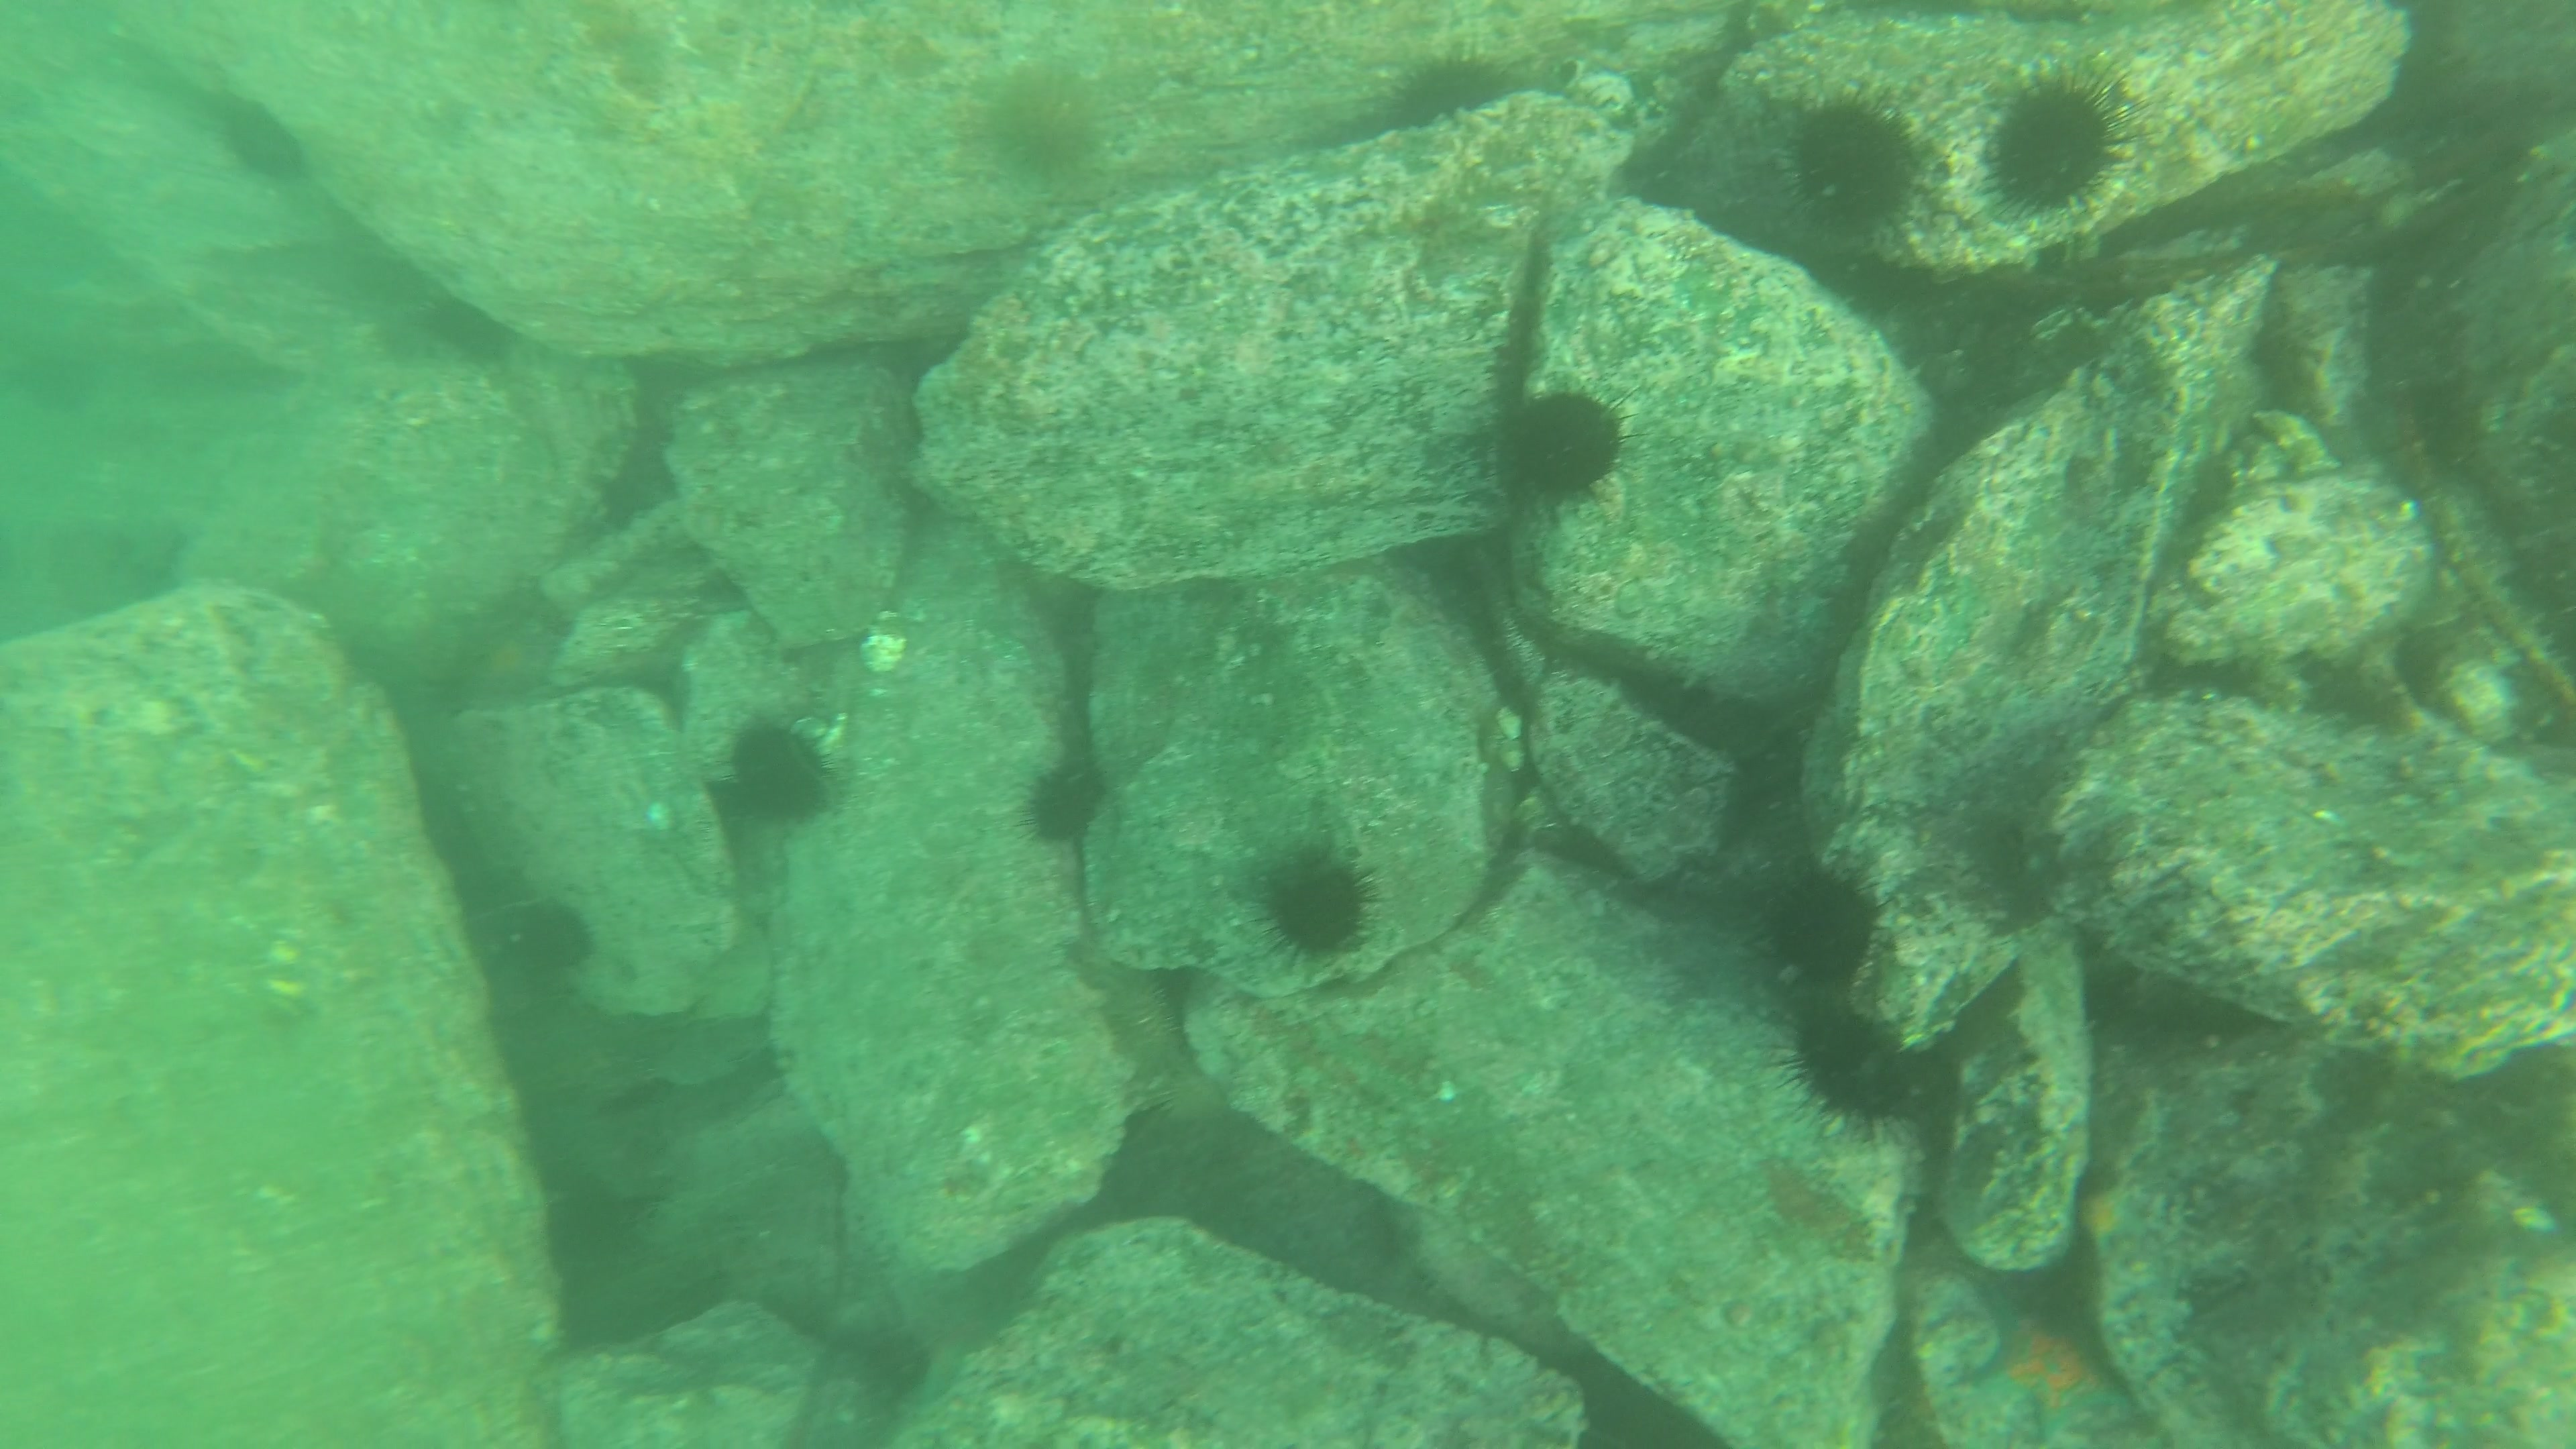echinus: (1973, 64, 2141, 230), (1775, 92, 1932, 246), (1767, 996, 1934, 1141), (1246, 842, 1394, 971), (1760, 860, 1890, 1003), (1509, 382, 1642, 517), (985, 78, 1111, 196), (718, 713, 842, 823), (1387, 55, 1507, 138), (214, 92, 311, 193), (1019, 757, 1109, 851), (418, 283, 502, 368), (510, 893, 593, 975)
starfish: (1950, 1251, 2141, 1449), (458, 610, 561, 711), (2068, 1178, 2160, 1261)
